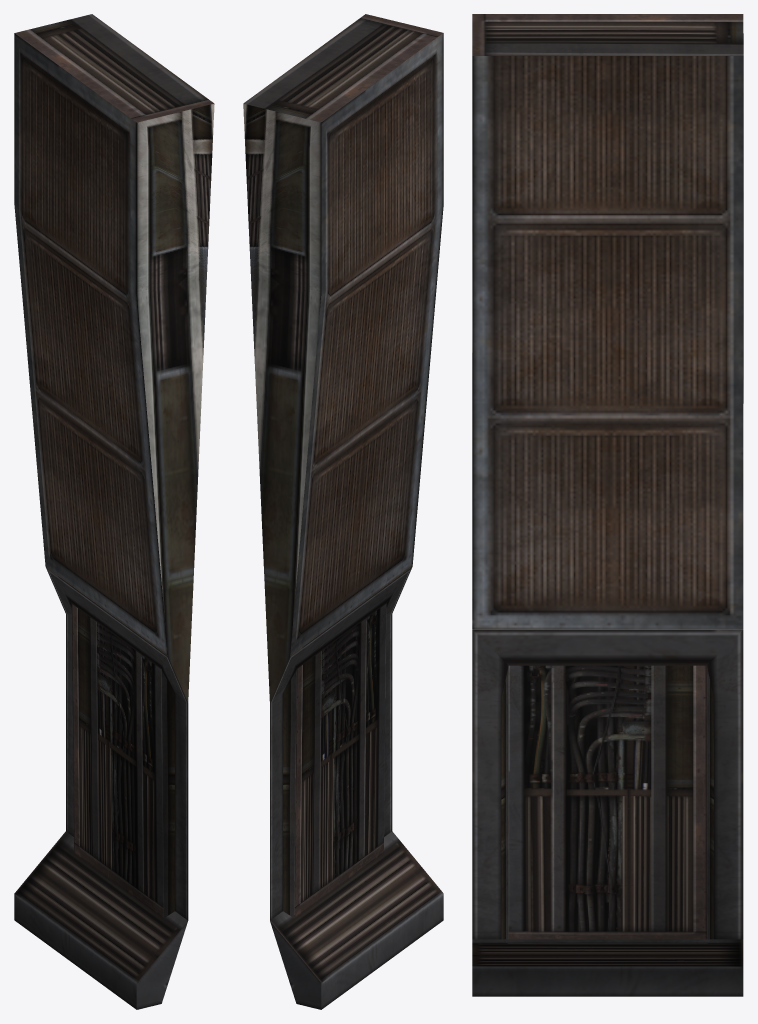
File: ARC_PilarC_Basic.FBX
The picture shows the model from 3 angles, left to right: view 1: azimuth 30°, elevation 25°; view 2: azimuth 150°, elevation 25°; view 3: azimuth 270°, elevation 25°; orthographic projection. The views are drawn at different scales.
Parts seen in each view (by area): view 1: ARC_PilarC_Basic; view 2: ARC_PilarC_Basic; view 3: ARC_PilarC_Basic.
Part boxes in pixels (x1,y1,x2,y2): ARC_PilarC_Basic: (14, 14, 214, 1009); ARC_PilarC_Basic: (243, 14, 443, 1009); ARC_PilarC_Basic: (472, 14, 743, 996).
Size of the model in its own units: 36.75 by 400 by 100.
Materials: 1 (1 with a texture image).
